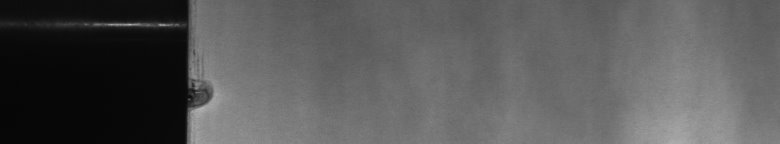hb: (196, 68, 220, 116)
